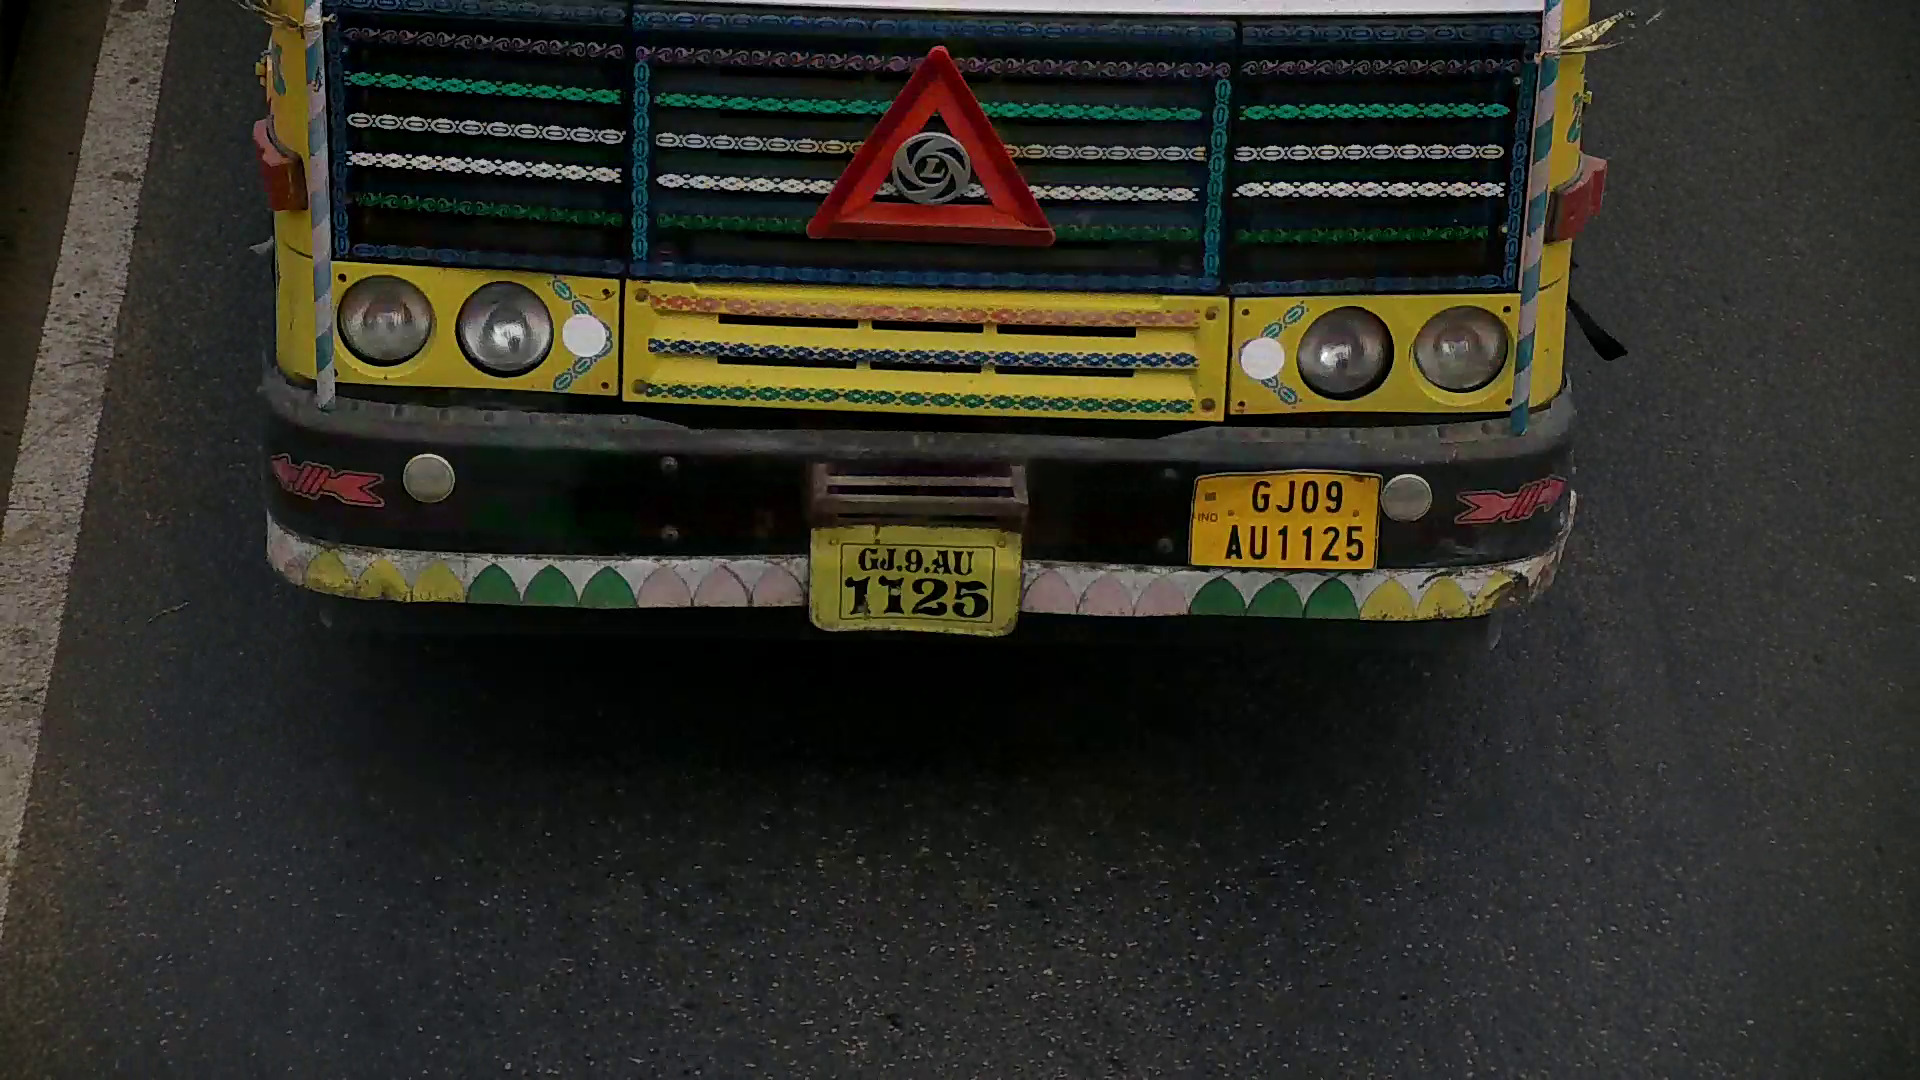doublelinenumberplate: (1189, 467, 1378, 572)
